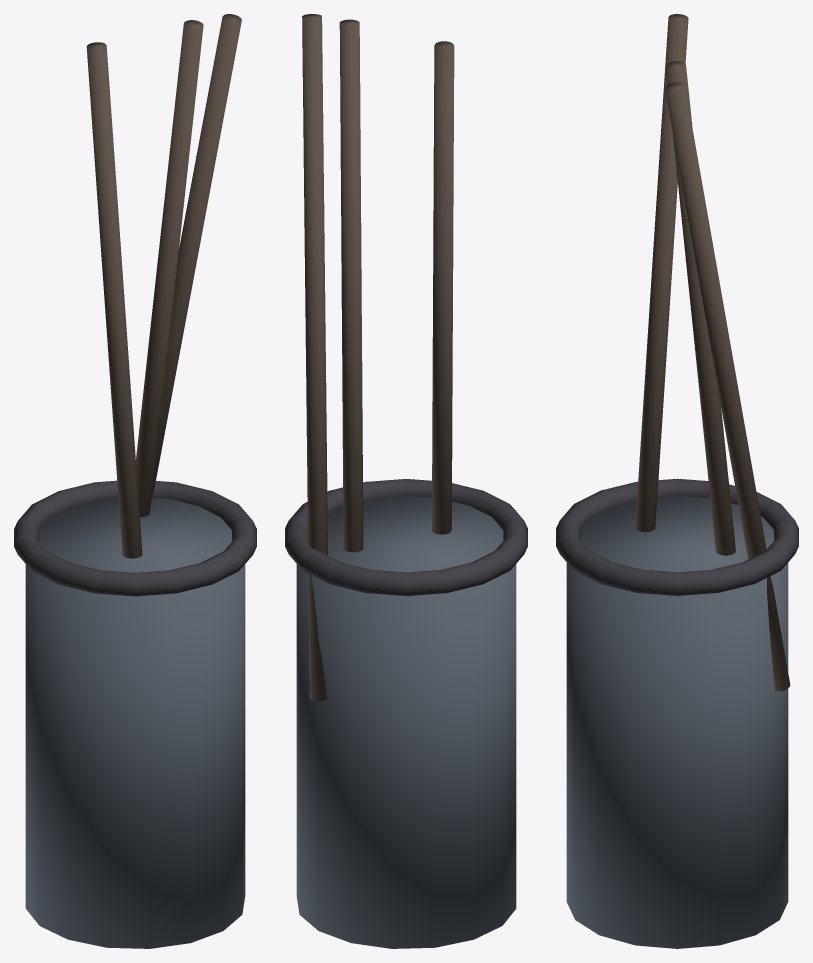
File: prop_kasatate.glb
The picture shows the model from 3 angles, left to right: view 1: azimuth 30°, elevation 25°; view 2: azimuth 150°, elevation 25°; view 3: azimuth 270°, elevation 25°; orthographic projection.
Parts seen in each view (by area): view 1: kasatate; view 2: kasatate; view 3: kasatate.
Part boxes in pixels (x1,y1,x2,y2): kasatate: (14,14,256,948); kasatate: (285,14,527,948); kasatate: (556,14,798,948).
Size of the model in its own units: 0.49 by 1.9 by 0.4826.
